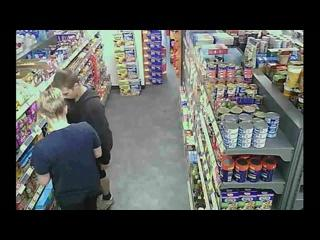shoplifting: (30, 88, 104, 210), (52, 69, 114, 207)
